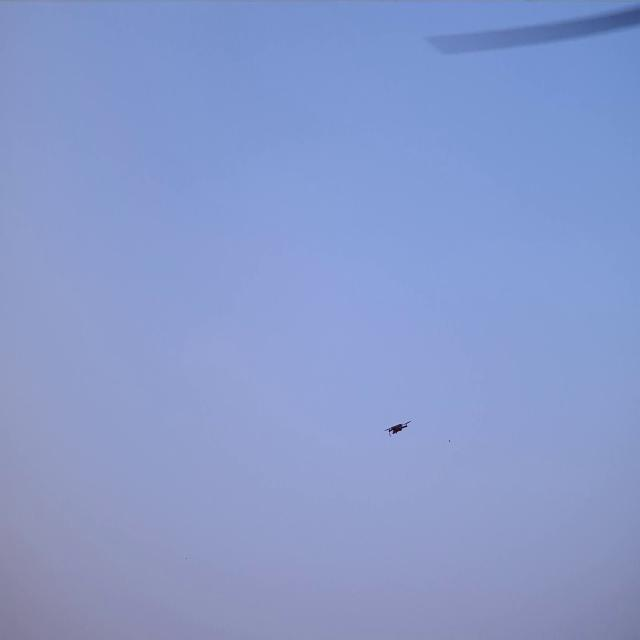UAV: (388, 422, 408, 434)
